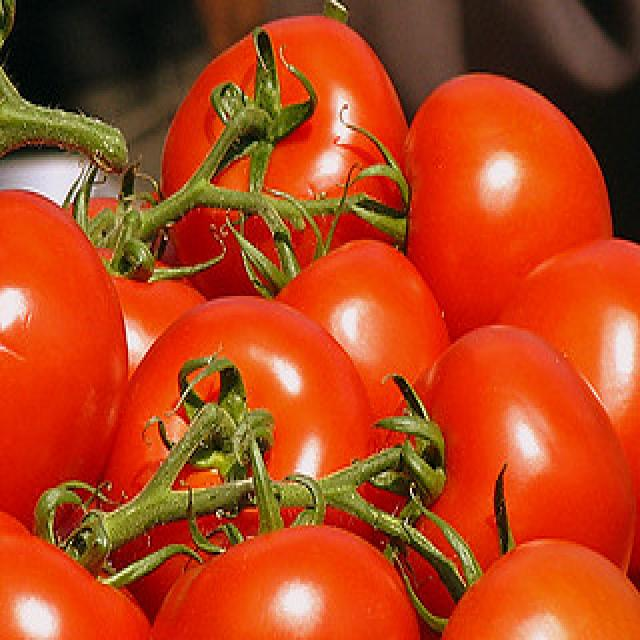Tomato: (97, 289, 379, 605), (158, 14, 410, 304), (390, 329, 636, 621), (393, 69, 613, 348)
